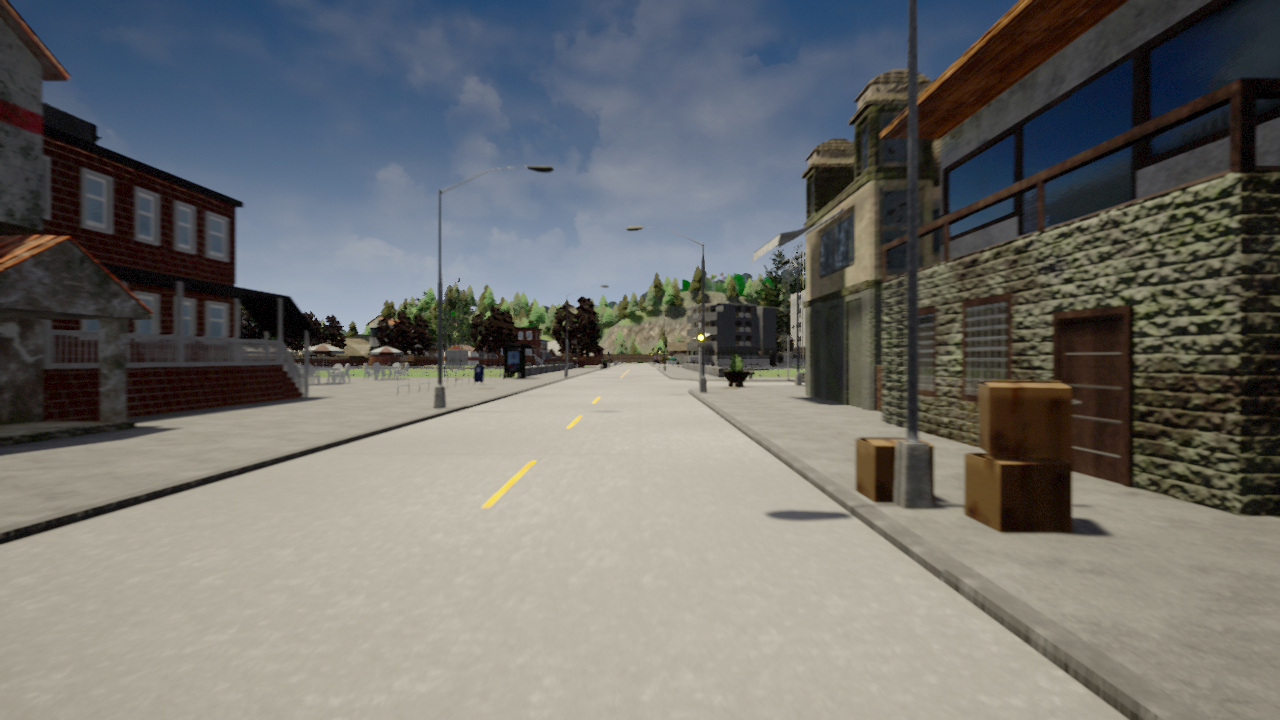yellow: (696, 328, 704, 351)
